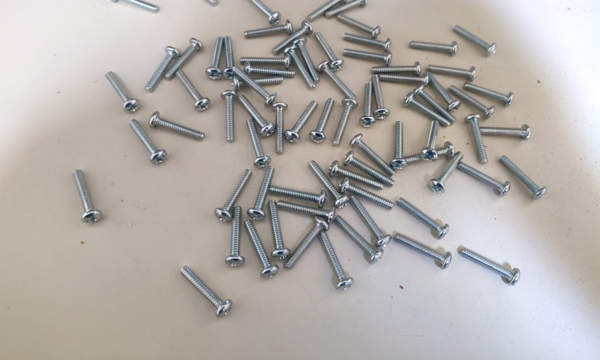longscrew: (178, 271, 234, 316), (398, 195, 452, 240), (333, 218, 384, 262), (463, 246, 520, 284), (286, 217, 326, 270), (459, 156, 509, 198), (395, 231, 450, 268), (349, 198, 391, 246), (310, 159, 351, 208), (242, 222, 277, 279), (316, 233, 351, 290), (505, 151, 543, 201), (216, 169, 251, 220), (354, 136, 397, 176), (399, 93, 450, 126), (260, 201, 290, 257), (231, 66, 275, 104), (339, 180, 395, 209), (429, 151, 467, 193), (345, 155, 396, 186), (316, 63, 357, 101), (247, 169, 278, 219), (270, 180, 327, 207), (70, 172, 100, 223), (145, 47, 179, 92), (165, 38, 203, 78), (455, 22, 499, 56), (130, 122, 165, 164), (153, 112, 205, 140), (415, 88, 457, 122), (238, 96, 274, 135), (453, 83, 494, 117), (174, 72, 210, 110), (284, 102, 317, 143), (397, 144, 458, 166), (305, 101, 338, 141), (426, 69, 459, 109), (283, 46, 315, 87), (328, 166, 385, 189), (280, 198, 334, 222), (272, 23, 312, 55), (104, 74, 138, 111), (465, 115, 491, 163), (244, 122, 271, 165), (292, 40, 320, 81), (334, 100, 357, 146), (227, 204, 244, 266), (314, 31, 342, 68), (468, 81, 515, 103), (337, 13, 381, 36), (343, 47, 393, 66), (346, 31, 394, 50), (245, 0, 281, 24), (371, 73, 389, 121), (245, 62, 298, 78), (411, 38, 458, 56), (427, 63, 478, 79), (245, 22, 294, 38), (223, 91, 238, 142), (423, 118, 438, 168), (380, 72, 431, 86), (307, 0, 346, 18), (271, 102, 284, 154), (329, 0, 365, 17), (242, 54, 293, 66), (223, 37, 238, 77), (362, 82, 374, 131), (394, 122, 405, 173), (209, 38, 223, 78), (110, 0, 157, 11), (232, 75, 285, 84), (372, 65, 423, 74), (179, 0, 218, 4)
